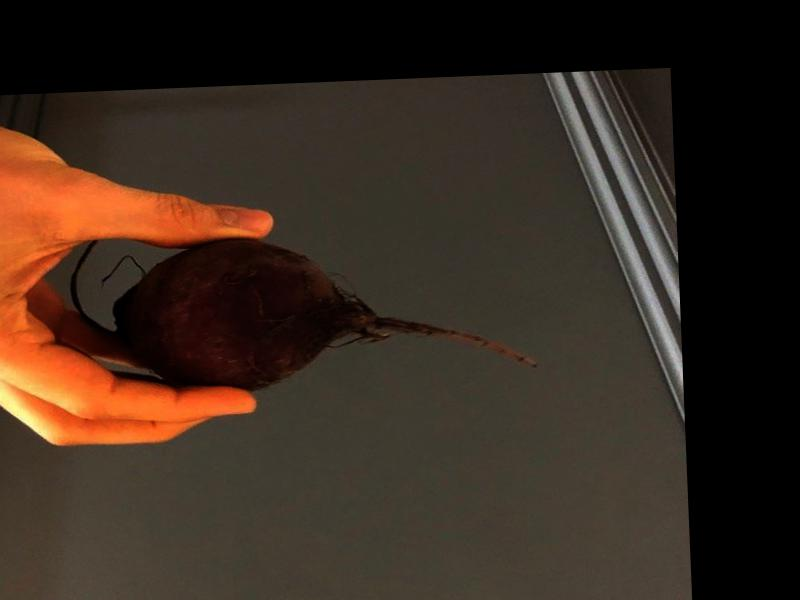Beet: (71, 223, 547, 393)
